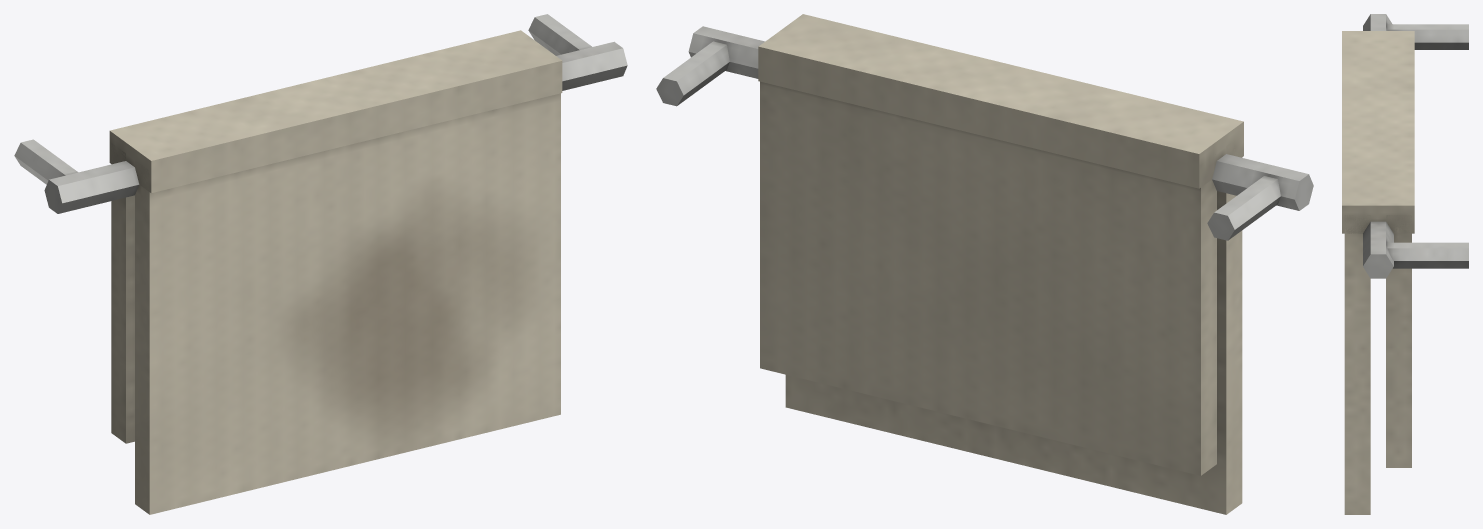
File: H_TowelRail.fbx
3 views of the same model, side by side, from view 1: azimuth 30°, elevation 25°; view 2: azimuth 150°, elevation 25°; view 3: azimuth 270°, elevation 25° (orthographic). The views are drawn at different scales.
Visible parts, largest first — view 1: H_TowelRail; view 2: H_TowelRail; view 3: H_TowelRail.
Part boxes in pixels (<box>): H_TowelRail: <box>14,14,627,514</box>; H_TowelRail: <box>656,14,1313,514</box>; H_TowelRail: <box>1342,14,1468,514</box>.
Bounding box in the file's own units: 220 × 132 × 49.
Materials: 1 (1 with a texture image).
